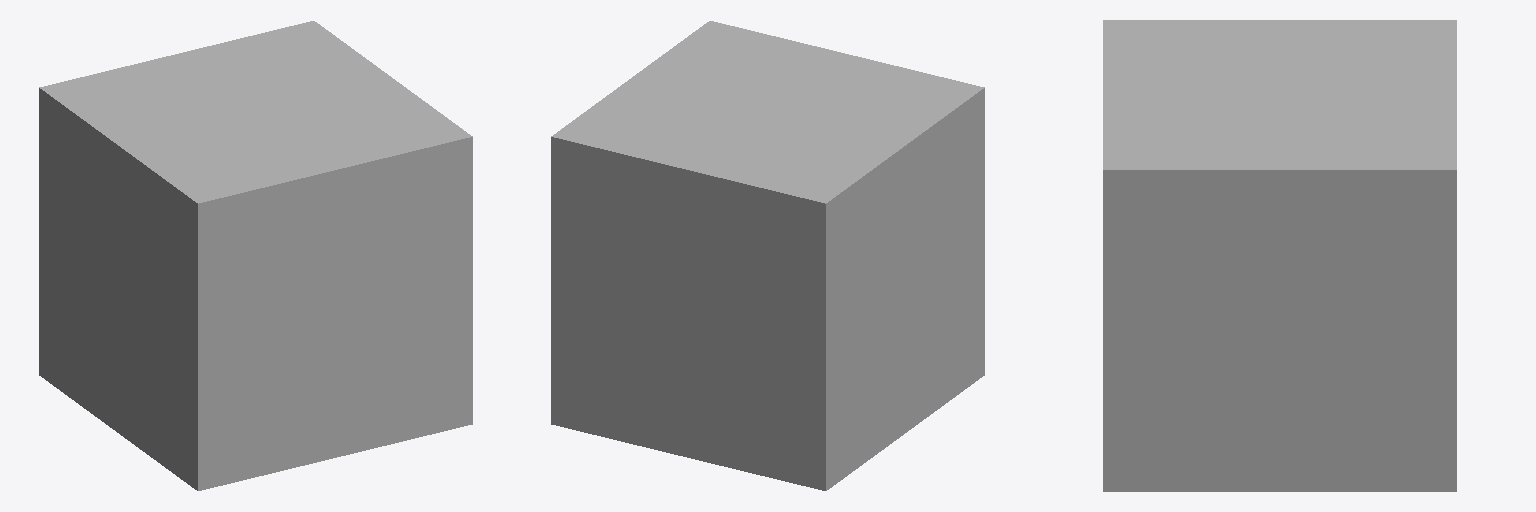
The robot description file, URDF, robot "root":
<robot name="root">
  <link name="link_ycb~cubei4_convex_piece_0">
    <inertial>
      <origin xyz="0 0 0" rpy="0 0 0"/>
      <mass value="4.03E-02"/>
      <inertia ixx="3.13E-06" ixy="2.02E-14" ixz="-2.02E-14" iyy="3.13E-06" iyz="4.03E-14" izz="3.13E-06"/>
    </inertial>
    <visual>
      <origin xyz="0 0 0" rpy="0 0 0"/>
      <geometry>
        <mesh filename="ycb~cubei4_convex_piece_0.obj" scale="1.0000E+00 1.0000E+00 1.0000E+00"/>
      </geometry>
      <material name="">
        <color rgba="7.50E-01 7.50E-01 7.50E-01 1"/>
      </material>
    </visual>
    <collision>
      <origin xyz="0 0 0" rpy="0 0 0"/>
      <geometry>
        <mesh filename="ycb~cubei4_convex_piece_0.obj" scale="1.0000E+00 1.0000E+00 1.0000E+00"/>
      </geometry>
    </collision>
  </link>
</robot>

--- Render facts (derived) ---
3 views of the same robot in one strip: view 1: azimuth 30°, elevation 25°; view 2: azimuth 150°, elevation 25°; view 3: azimuth 270°, elevation 25° (orthographic).
Robot: root — 1 links, 0 joints (none); root link link_ycb~cubei4_convex_piece_0; default pose: all joints at 0.
Links seen in each view (by area): view 1: link_ycb~cubei4_convex_piece_0; view 2: link_ycb~cubei4_convex_piece_0; view 3: link_ycb~cubei4_convex_piece_0.
Link boxes in pixels (left/top/right/bottom): link_ycb~cubei4_convex_piece_0: left=39, top=21, right=472, bottom=490; link_ycb~cubei4_convex_piece_0: left=551, top=21, right=984, bottom=490; link_ycb~cubei4_convex_piece_0: left=1103, top=20, right=1456, bottom=491.
Size in the robot's own frame: 0.0216 by 0.0216 by 0.0216 metres.
Meshes: 1 distinct files referenced, 1 mesh visuals loaded (1 OBJ).